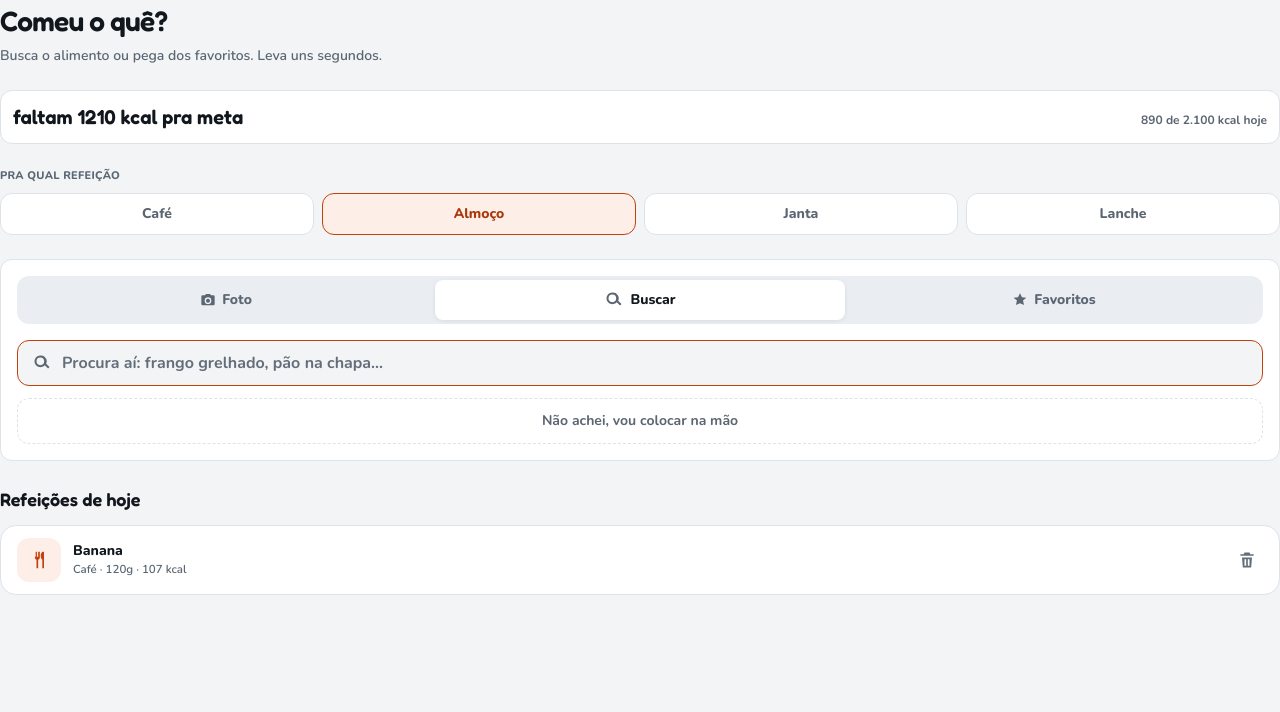
Test case: NutritionPage photo tab and the paid plan › does not open a free account on the tab that is locked
Expected: the search field with placeholder "Procura aí: frango grelhado, pão na chapa..." is shown, [62,350,1248,374]
Note: E o aviso continua lá para quem for até a aba, que é o que este teste protegia.
Click the button "Foto": (226, 300) [21,280,431,320]
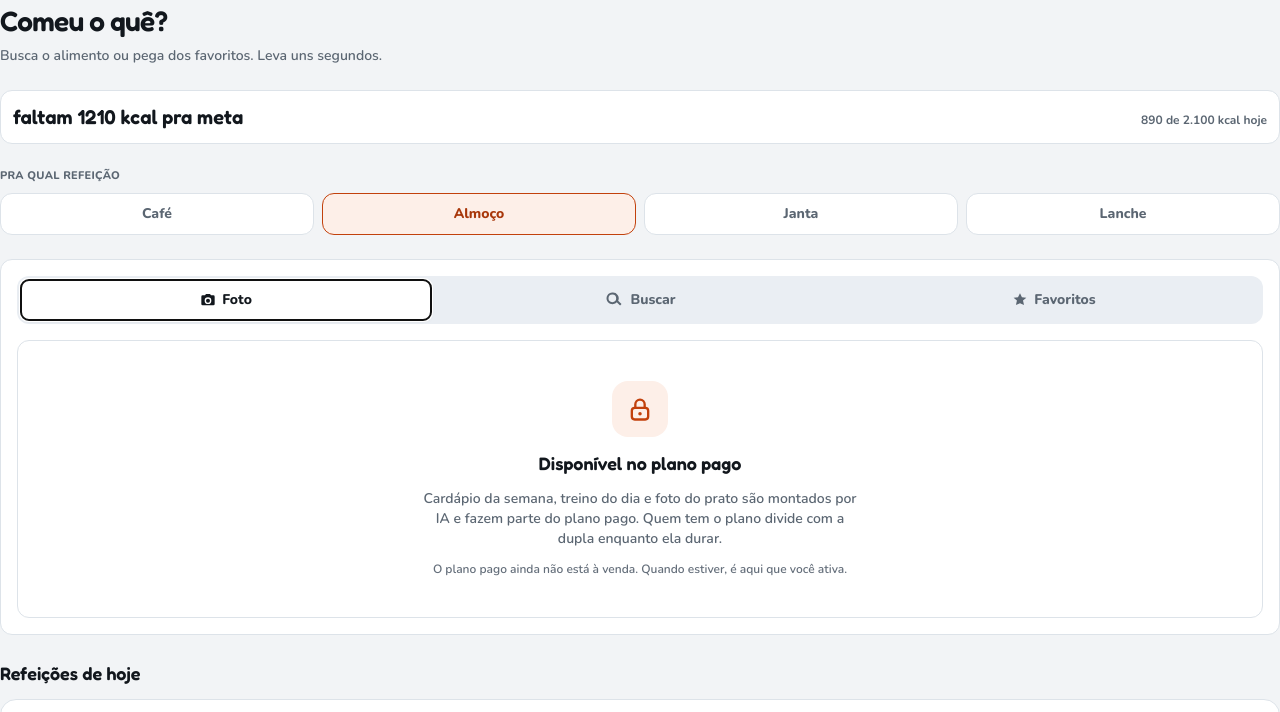
Result: the message with test id "premium-callout" is shown at [17,340,1263,618]
